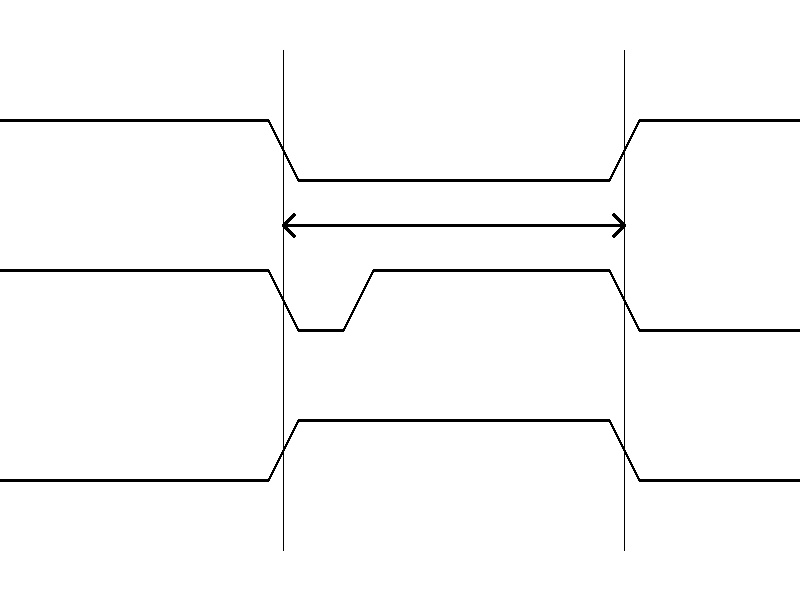double_arrow: (283, 210, 624, 240)
